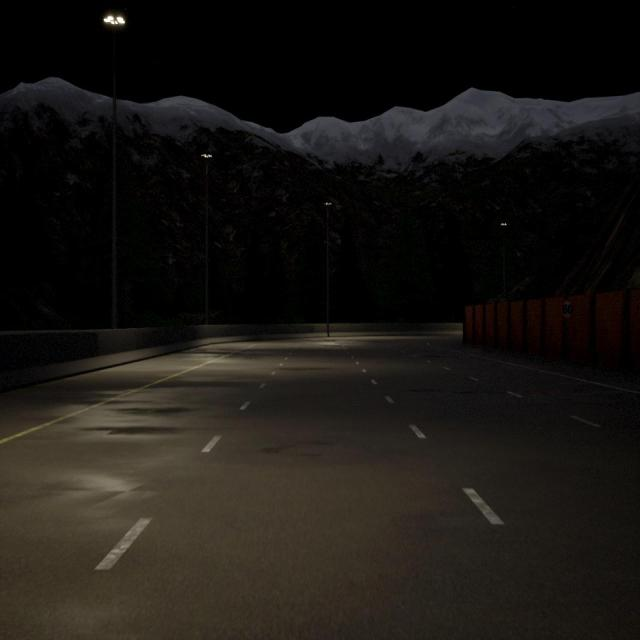Traffic_Signs: (560, 301, 574, 318)
